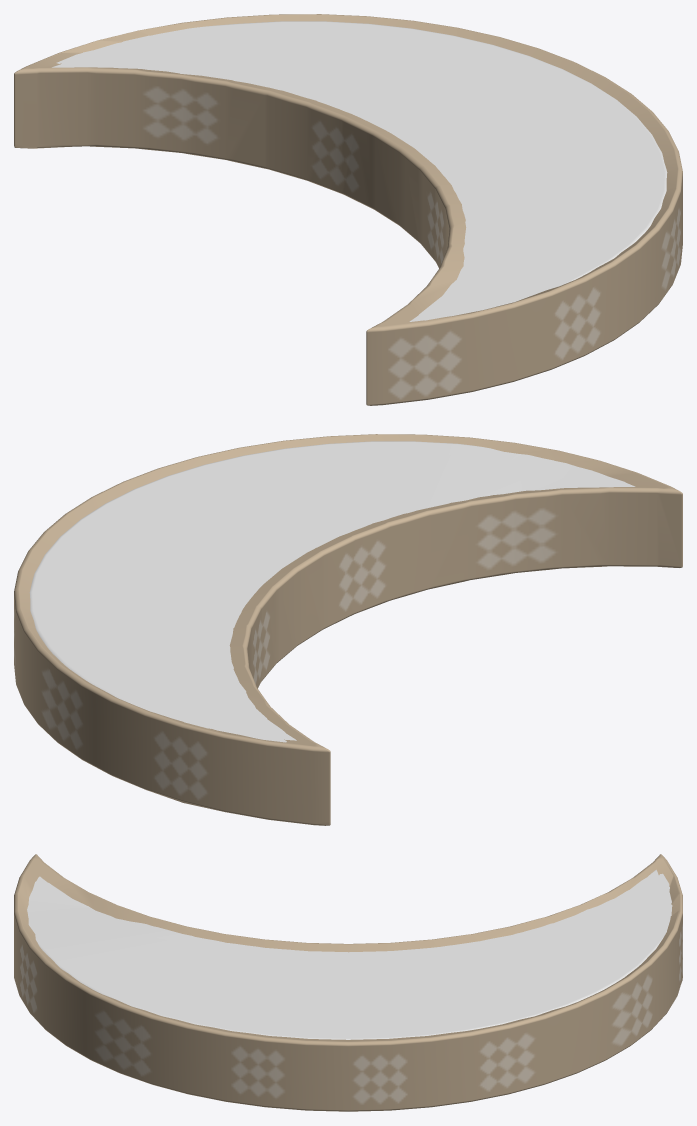
Rendered from moon lamp.fbx.
The picture shows the model from 3 angles, top to bottom: view 1: azimuth 30°, elevation 25°; view 2: azimuth 150°, elevation 25°; view 3: azimuth 270°, elevation 25°; orthographic projection. The views are drawn at different scales.
Parts seen in each view (by area): view 1: pCylinder6, pCylinder5; view 2: pCylinder6, pCylinder5; view 3: pCylinder6, pCylinder5.
Part boxes in pixels (x1,y1,x2,y2): pCylinder6: [14, 14, 682, 405]; pCylinder5: [52, 21, 667, 321]; pCylinder6: [14, 434, 682, 825]; pCylinder5: [29, 441, 635, 742]; pCylinder6: [14, 854, 682, 1111]; pCylinder5: [27, 869, 672, 1039].
Bounding box in the file's own units: 3.77 × 0.6373 × 5.57.
1 material, 1 textured.
